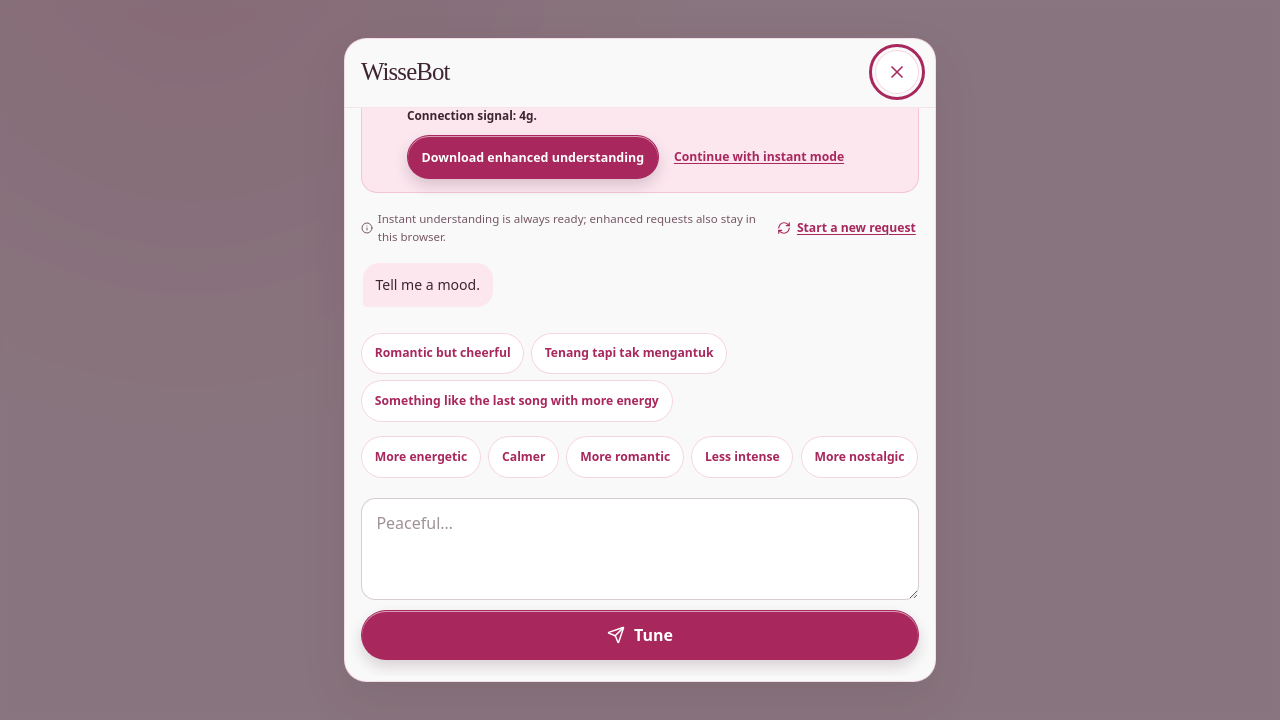
Test: primary experience components › renders focused clarification choices for ambiguous input
The image size is (1280, 720).
(page scrolled)
Type "something powerful" into the text box named "Message WisseBot" at (640, 549), box [361,498,919,600]
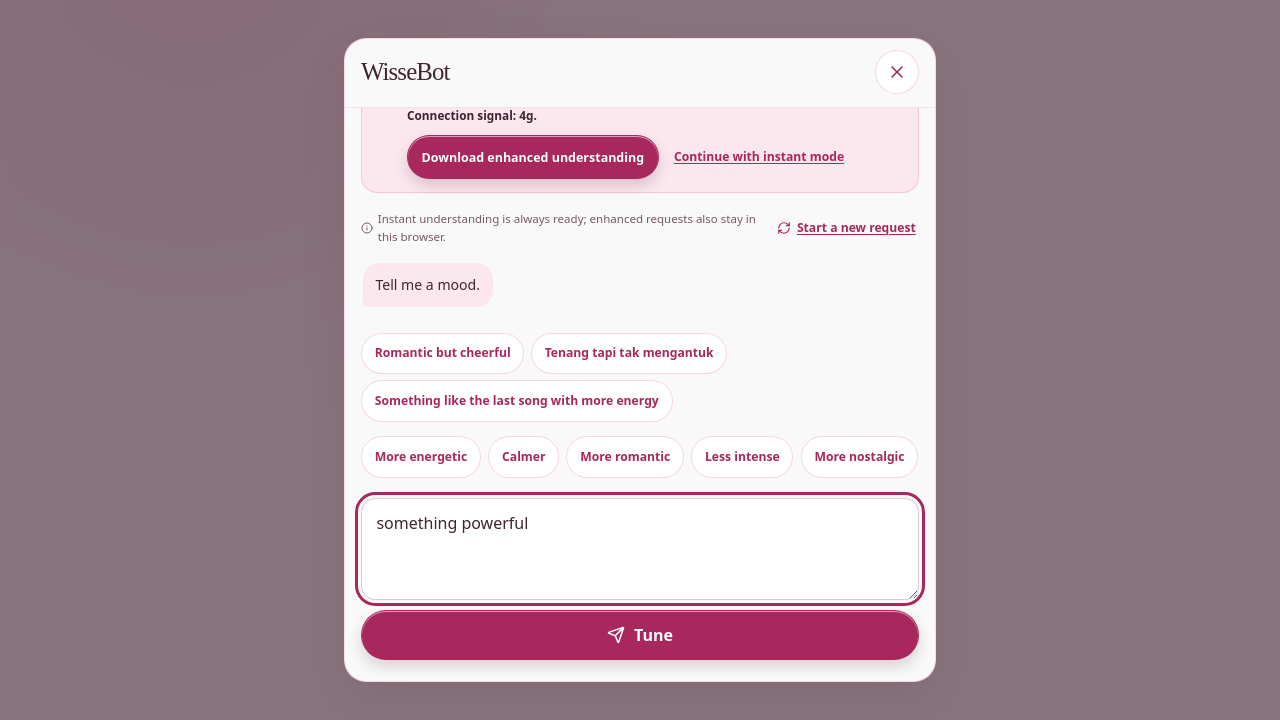
Click the button "Tune" at (640, 635), box [361,610,919,660]
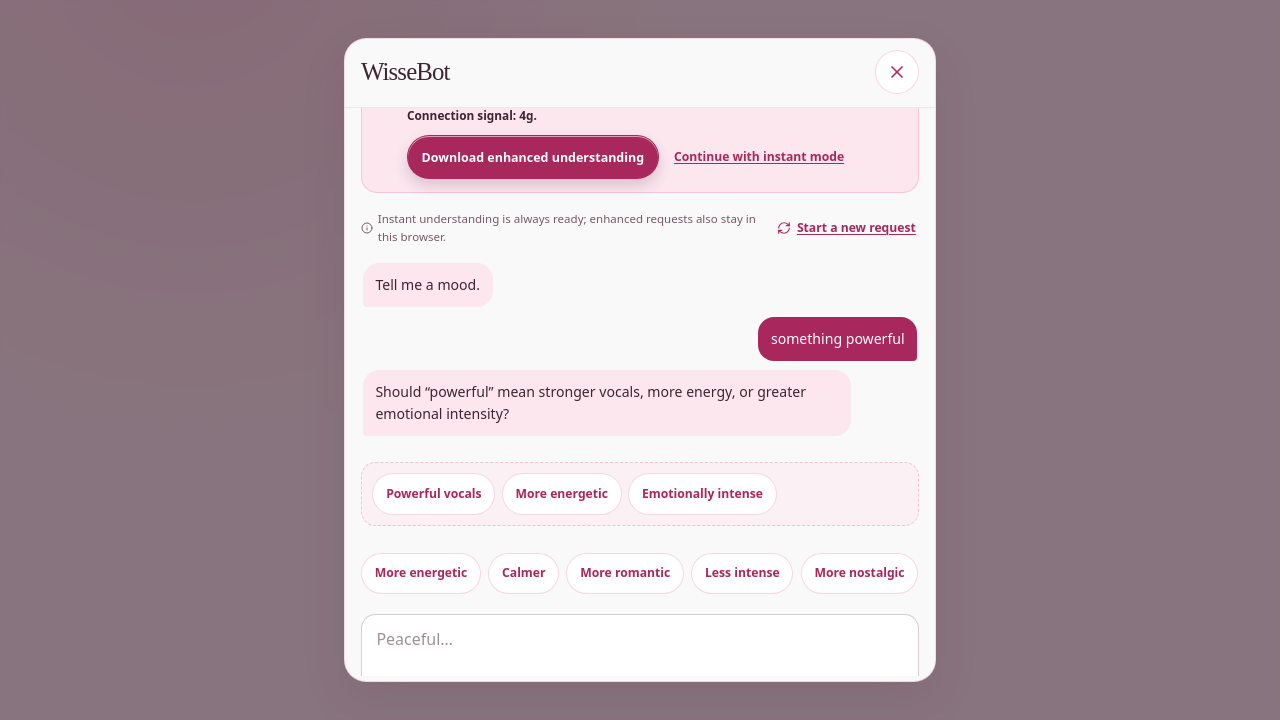
Now the text "stronger vocals, more energy, or greater emotional intensity" is shown, box [375,382,806,423]
Now the button "Powerful vocals" is shown, box [372,473,495,515]
